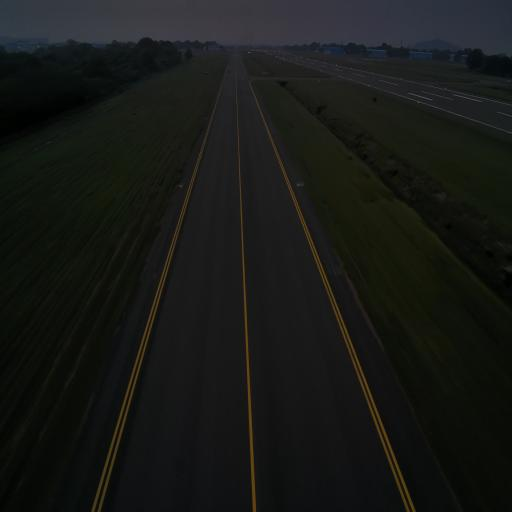on: (298, 180, 301, 184), (180, 181, 182, 186), (205, 115, 208, 118), (268, 114, 270, 118)
